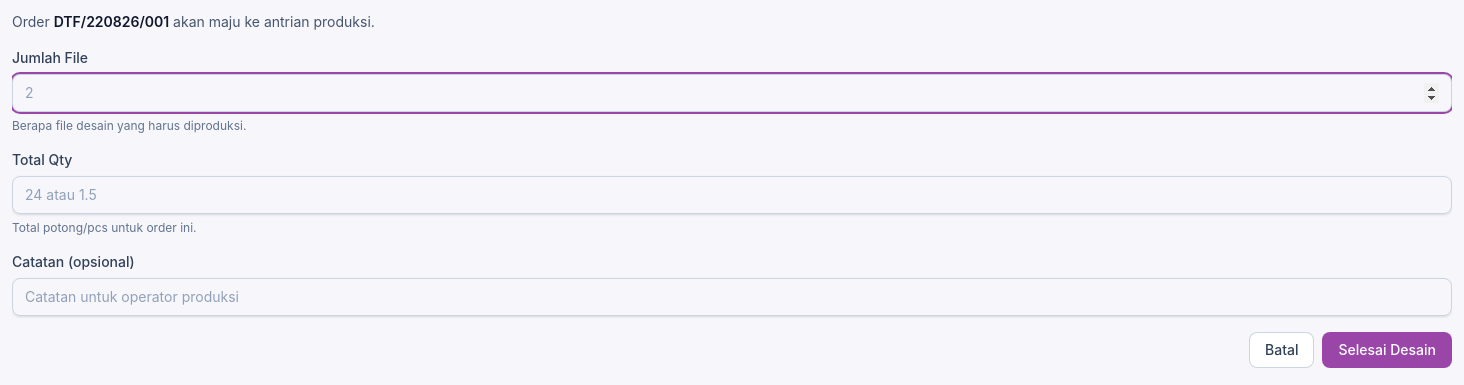
Test: SelesaiDesainForm › menahan submit kalau jumlah file & total qty kosong
Click the button "Selesai Desain" at (1387, 350), box left=1322, top=332, right=1452, bottom=368
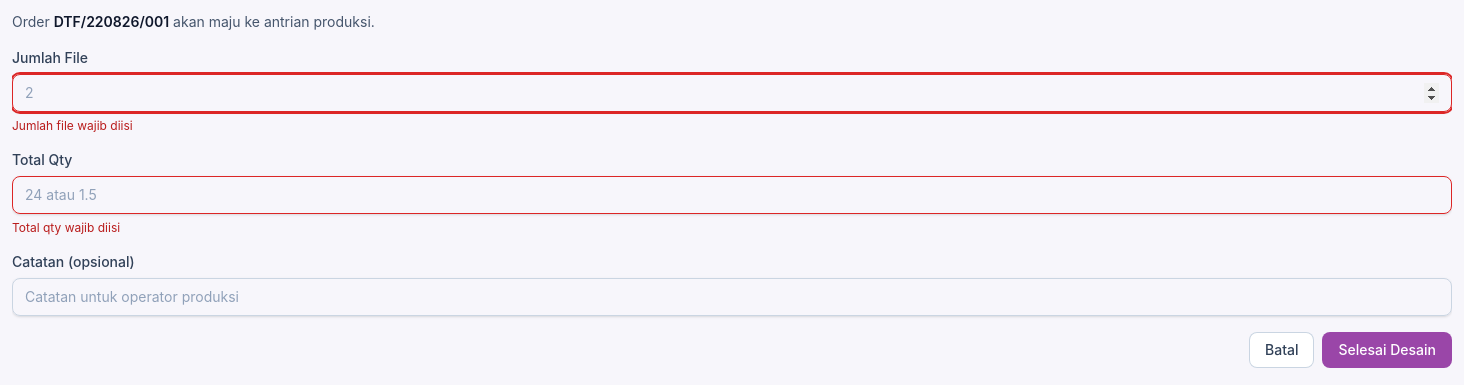
Expected: the text "Jumlah file wajib diisi" is shown, left=12, top=118, right=133, bottom=133
Expected: the text "Total qty wajib diisi" is shown, left=12, top=220, right=120, bottom=235
